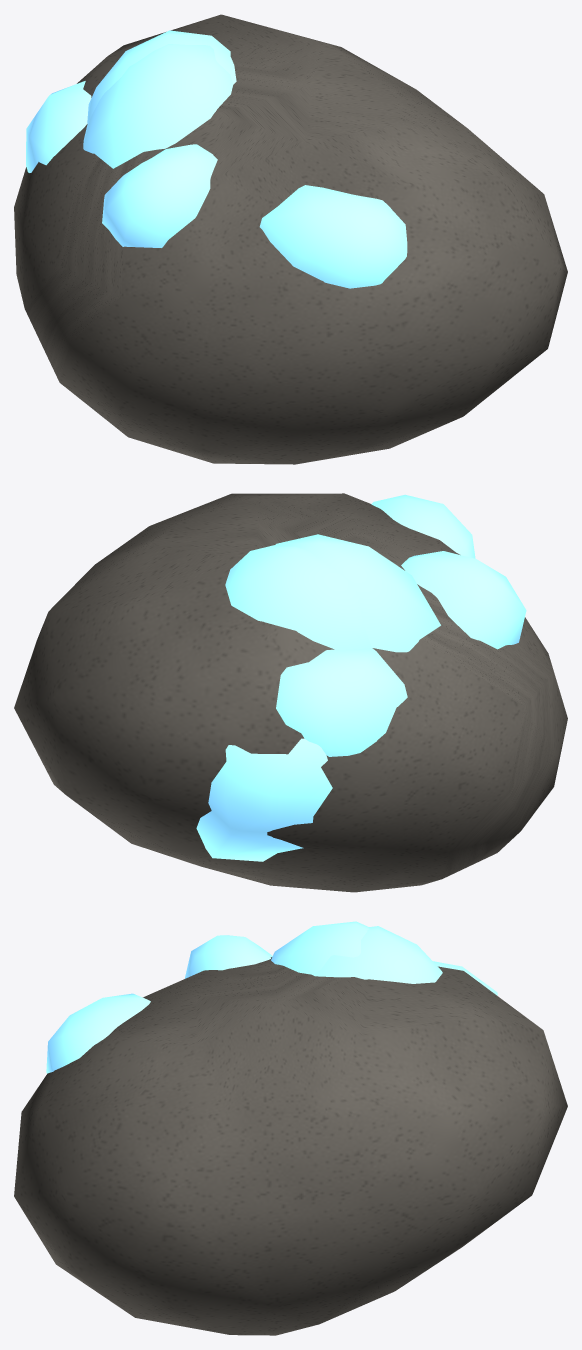
Rendered from ore_mithril.glb.
The picture shows the model from 3 angles, top to bottom: view 1: azimuth 30°, elevation 25°; view 2: azimuth 150°, elevation 25°; view 3: azimuth 270°, elevation 25°; orthographic projection. The views are drawn at different scales.
Parts seen in each view (by area): view 1: ore_mithril; view 2: ore_mithril; view 3: ore_mithril.
Part boxes in pixels (box(x1,y1,x2,y2)): ore_mithril: box(14, 14, 567, 464); ore_mithril: box(14, 493, 567, 892); ore_mithril: box(14, 921, 567, 1335).
Size of the model in its own units: 0.17 by 0.1304 by 0.1876.
2 materials, 1 textured.
